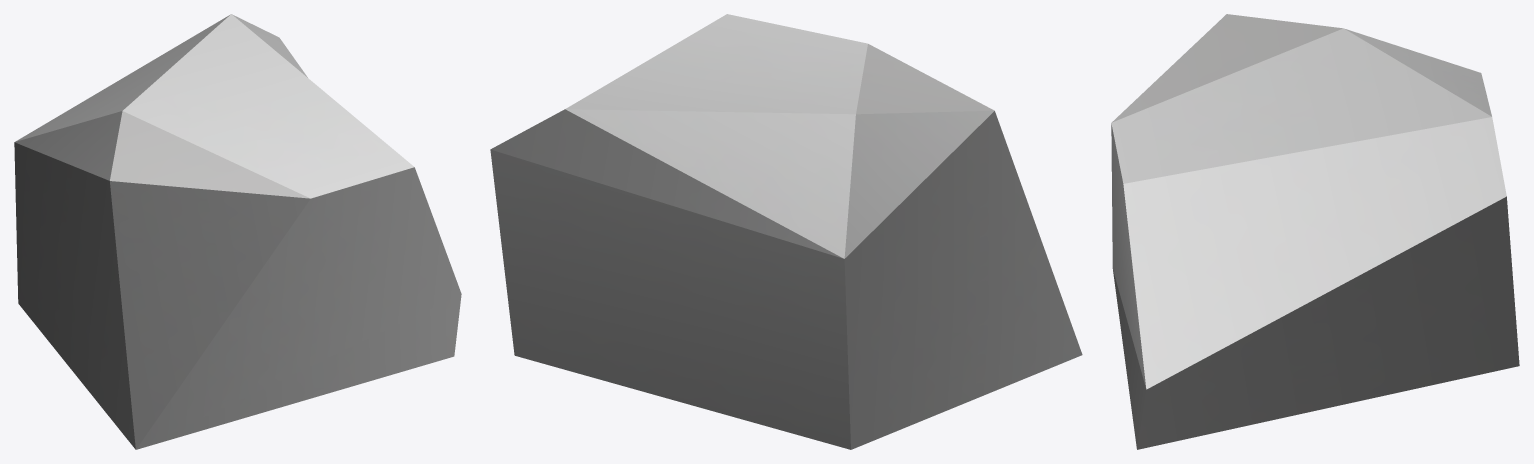
The model's file is DesertRock_03.fbx.
3 views of the same model, side by side, from view 1: azimuth 30°, elevation 25°; view 2: azimuth 150°, elevation 25°; view 3: azimuth 270°, elevation 25° (orthographic). The views are drawn at different scales.
Parts seen in each view (by area): view 1: DesertRock_03; view 2: DesertRock_03; view 3: DesertRock_03.
Part boxes in pixels (box(x1,y1,x2,y2)): DesertRock_03: box(14, 14, 461, 449); DesertRock_03: box(490, 14, 1082, 449); DesertRock_03: box(1111, 14, 1519, 449).
Bounding box in the file's own units: 374 × 268 × 331.
